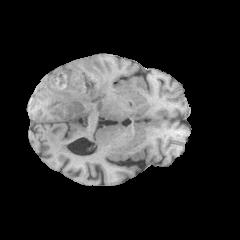glioma: (34, 57, 106, 121)
